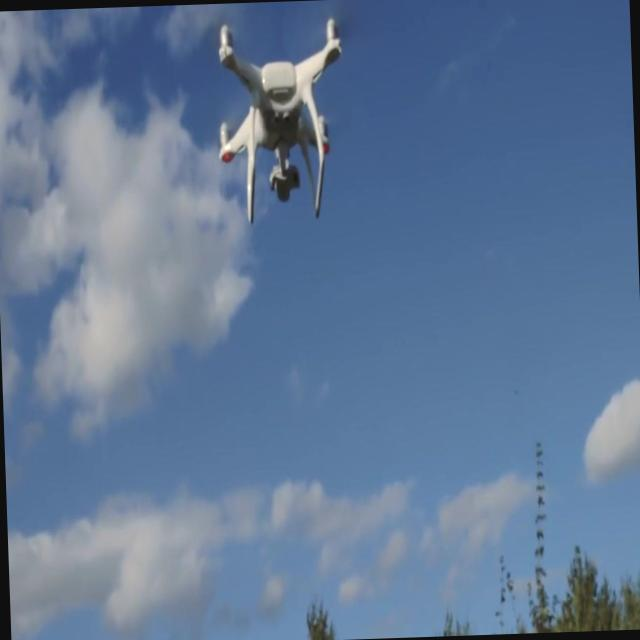drone: (212, 12, 348, 228)
